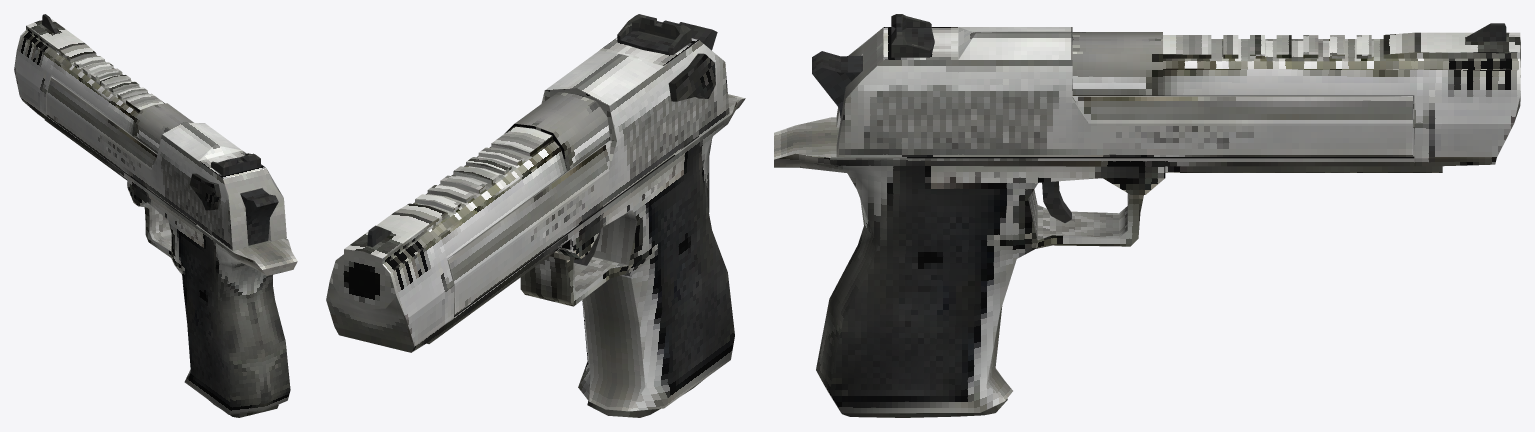
File: deagle.glb
The picture shows the model from 3 angles, left to right: view 1: azimuth 30°, elevation 25°; view 2: azimuth 150°, elevation 25°; view 3: azimuth 270°, elevation 25°; orthographic projection. The views are drawn at different scales.
Parts seen in each view (by area): view 1: deagle; view 2: deagle; view 3: deagle.
Boxes of the visible parts, <box> form: deagle: <box>14,14,297,417</box>; deagle: <box>326,14,745,417</box>; deagle: <box>774,14,1520,417</box>.
Bounding box in the file's own units: 0.0407 × 0.1497 × 0.27.
Materials: 2 (2 with a texture image).
